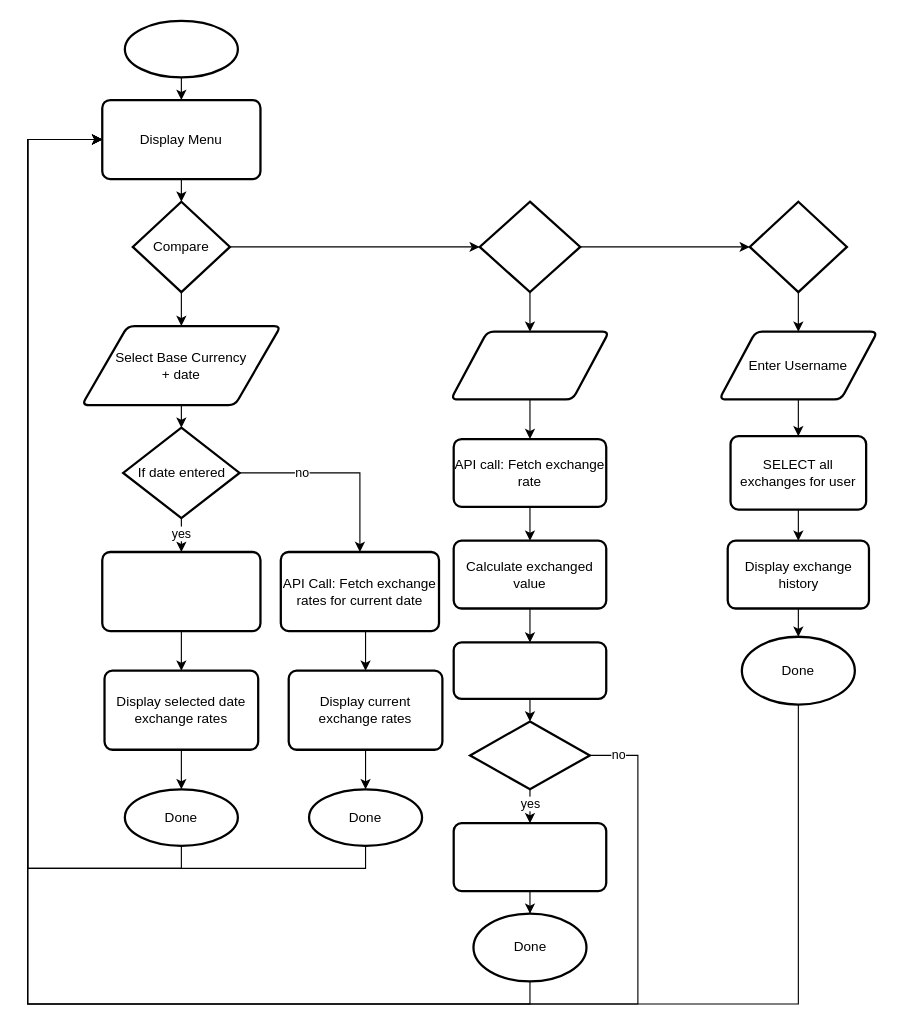
This 898x1033 diagram has some shape labels left out. Each missing label, with the box of its shape:
API Call: Fetch exchange rates for date: (101, 550, 261, 632)
Display exchange detail: (452, 641, 607, 699)
Exchange: (478, 200, 581, 293)
Get Exchange Info: (449, 330, 610, 400)
History: (748, 200, 847, 293)
If user confirms: (468, 720, 590, 790)
Save Exchange data to DB: (452, 822, 607, 892)
Start: (123, 19, 238, 78)
